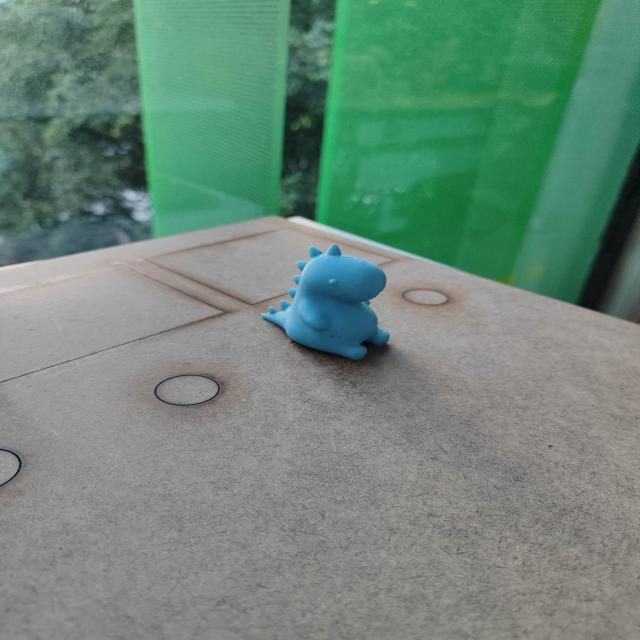DINO: (256, 226, 402, 362)
